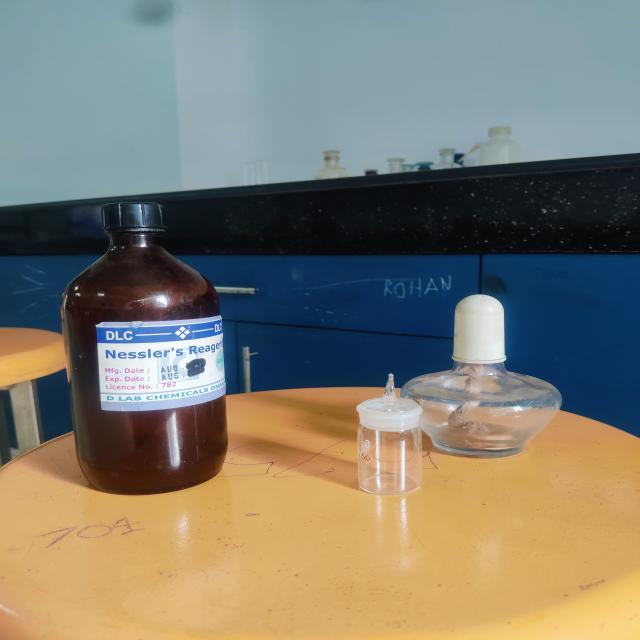Nessler_Reagent_Bottle: (9, 162, 253, 526)
Spirit_Lamp: (402, 282, 574, 474)
Weighing_Bottle: (329, 365, 451, 522)
